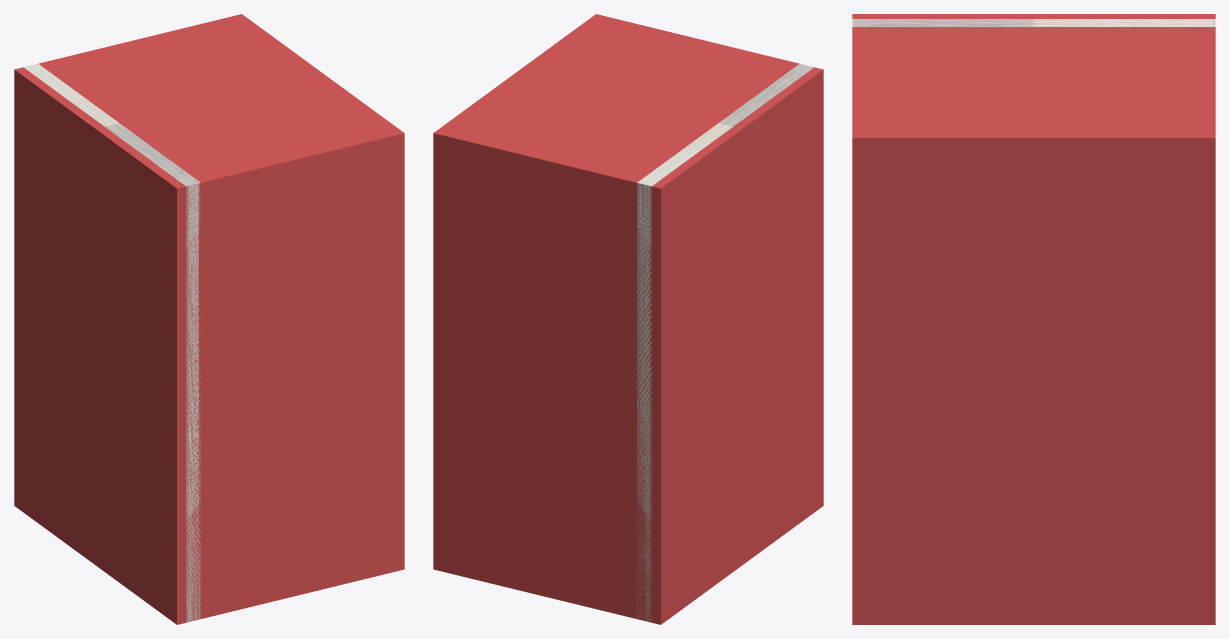
Rendered from warehouse_wall_bay_door.DAE.
3 renders of one model, left to right at view 1: azimuth 30°, elevation 25°; view 2: azimuth 150°, elevation 25°; view 3: azimuth 270°, elevation 25°, orthographic. The views are drawn at different scales.
Visible parts, largest first — view 1: bounds, colbox-01, warehouse_wall_bay_door; view 2: bounds, colbox-01, warehouse_wall_bay_door; view 3: bounds, colbox-01.
Boxes of the visible parts, x1,y1,x2,y2 form: bounds: (14, 14, 404, 624); colbox-01: (24, 64, 200, 622); warehouse_wall_bay_door: (180, 174, 198, 621); bounds: (433, 14, 823, 624); colbox-01: (637, 64, 813, 621); warehouse_wall_bay_door: (639, 183, 649, 621); bounds: (852, 14, 1215, 624); colbox-01: (852, 19, 1215, 26).
Bounding box in the file's own units: 546 × 676 × 1000.
Materials: 3 (2 with a texture image).
